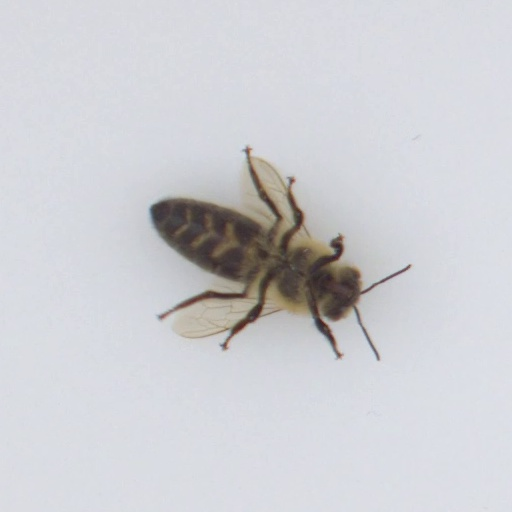Bee: (132, 180, 377, 332)
